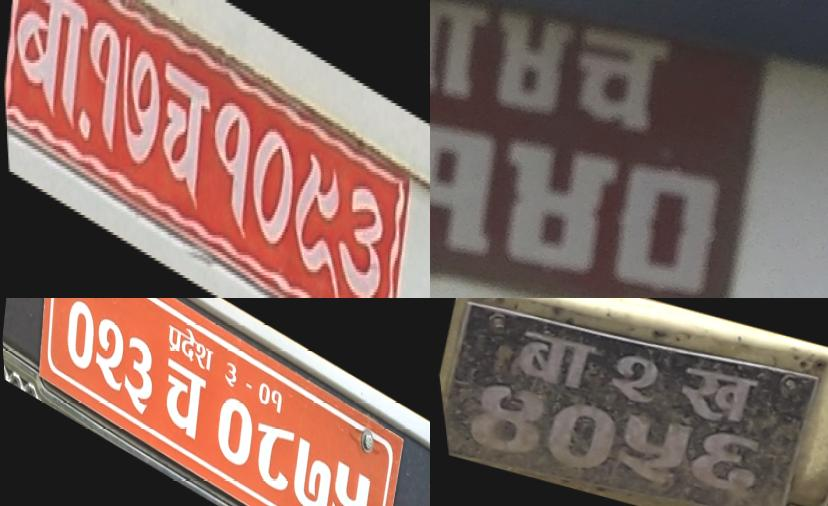0: (580, 147, 738, 298), (241, 119, 300, 251), (507, 326, 596, 392), (208, 385, 259, 479), (59, 298, 102, 379), (254, 376, 272, 410)
1: (430, 103, 513, 268), (196, 89, 262, 238), (74, 11, 130, 149), (601, 350, 661, 406), (268, 385, 284, 418)
2: (87, 307, 133, 399)
3: (328, 175, 390, 298), (115, 325, 163, 424), (220, 357, 242, 394)
4: (463, 121, 626, 292), (461, 2, 585, 128), (677, 424, 766, 500)
5: (458, 379, 548, 460), (321, 451, 372, 506)
6: (605, 411, 692, 488)
7: (108, 29, 172, 174), (283, 426, 336, 506)
8: (245, 405, 299, 504)
9: (279, 142, 351, 294)
ba: (4, 0, 94, 129), (430, 0, 501, 108)
cha: (549, 16, 679, 143), (146, 56, 218, 208), (533, 396, 623, 477), (154, 348, 214, 452)
ja: (670, 362, 753, 427)
